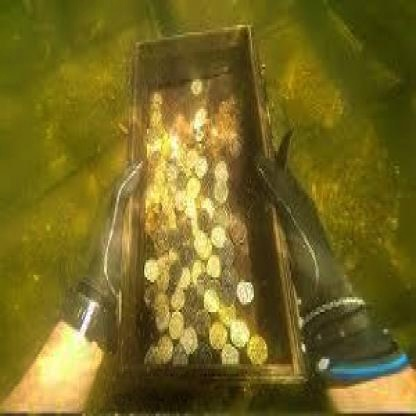metal: (143, 77, 272, 369)
